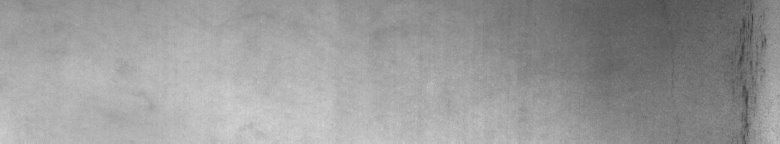ka: (726, 4, 776, 136)
